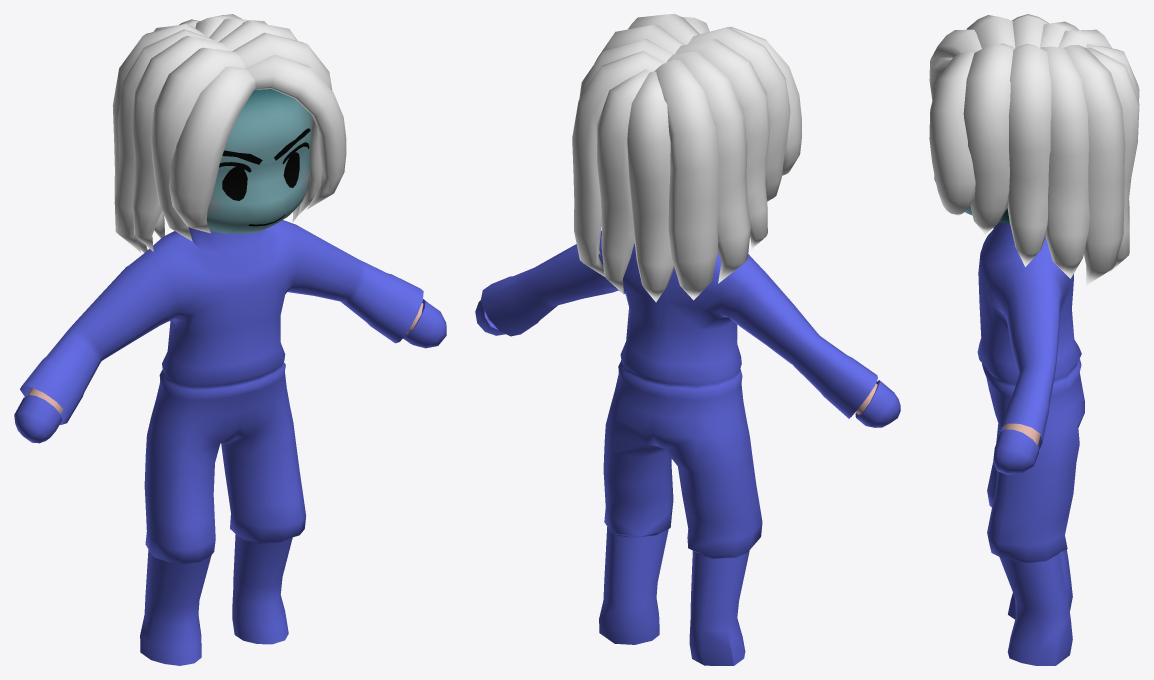
File: Iron_Team.fbx
3 renders of one model, left to right at view 1: azimuth 30°, elevation 25°; view 2: azimuth 150°, elevation 25°; view 3: azimuth 270°, elevation 25°, orthographic. The views are drawn at different scales.
Parts seen in each view (by area): view 1: Iron_Team_Outfit, NurbsPath.002, Head; view 2: Iron_Team_Outfit, NurbsPath.002; view 3: NurbsPath.002, Iron_Team_Outfit, Body.001.
Part boxes in pixels (bbox=[...]): Iron_Team_Outfit: bbox=[14, 220, 446, 665]; NurbsPath.002: bbox=[112, 14, 346, 252]; Head: bbox=[206, 89, 311, 233]; Iron_Team_Outfit: bbox=[475, 230, 900, 665]; NurbsPath.002: bbox=[572, 14, 801, 302]; NurbsPath.002: bbox=[929, 14, 1139, 285]; Iron_Team_Outfit: bbox=[977, 222, 1084, 665]; Body.001: bbox=[1003, 423, 1040, 445].
Bounding box in the file's own units: 274 × 380 × 120.
